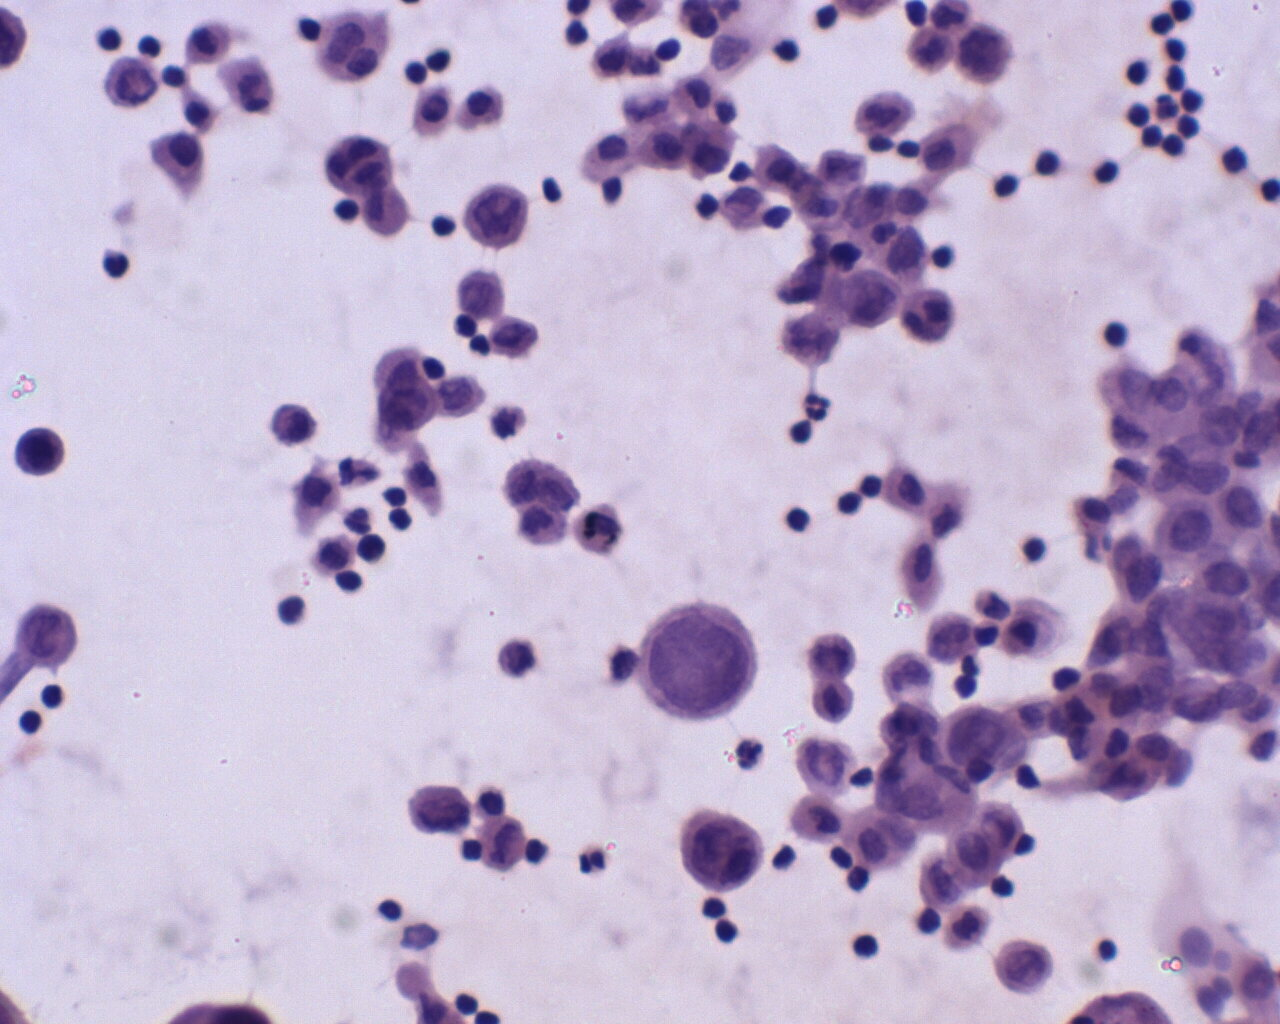ab: (634, 597, 760, 720), (677, 800, 768, 895), (457, 177, 533, 252), (990, 932, 1058, 1002), (400, 778, 478, 839)
lymph: (330, 190, 365, 226), (329, 568, 369, 597), (850, 931, 885, 961), (1097, 317, 1130, 349), (1121, 57, 1157, 87), (783, 504, 814, 536), (1020, 532, 1047, 564)
neutro: (800, 387, 835, 424)
